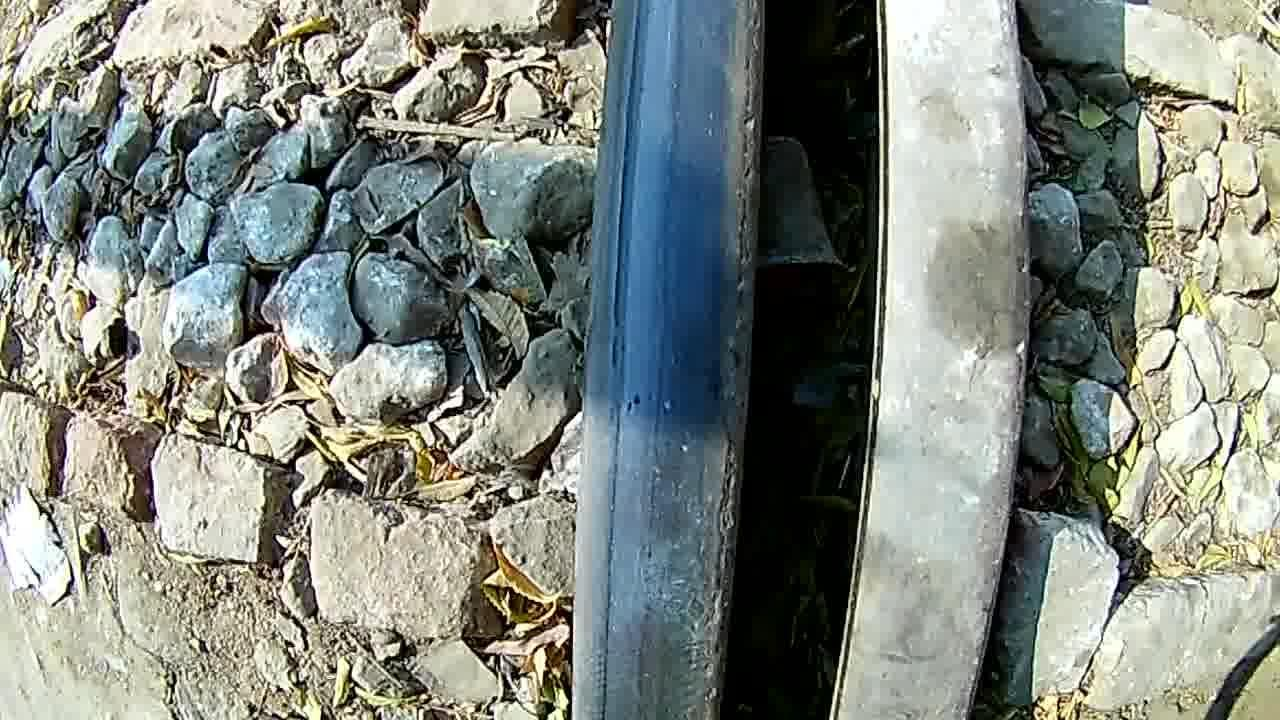crack: (554, 2, 774, 720)
